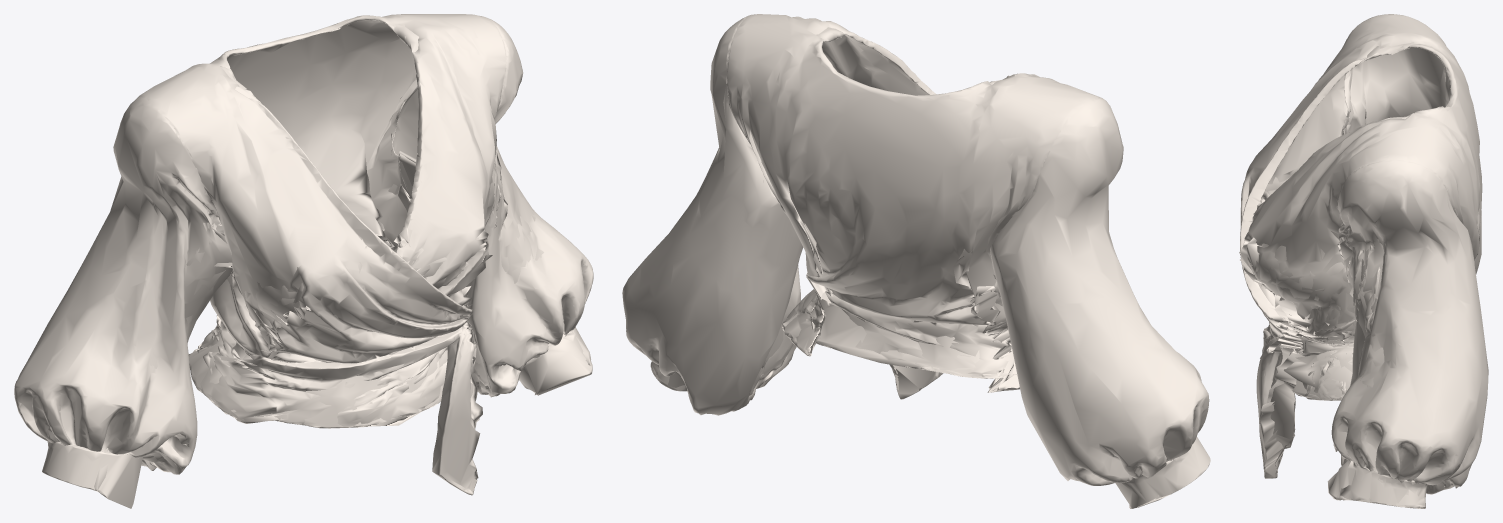
File: top_f_wrap.glb
The picture shows the model from 3 angles, left to right: view 1: azimuth 30°, elevation 25°; view 2: azimuth 150°, elevation 25°; view 3: azimuth 270°, elevation 25°; orthographic projection. The views are drawn at different scales.
Visible parts, largest first — view 1: top_f_wrap; view 2: top_f_wrap; view 3: top_f_wrap.
Part boxes in pixels (x1,y1,x2,y2): top_f_wrap: [14, 14, 593, 508]; top_f_wrap: [622, 14, 1210, 508]; top_f_wrap: [1239, 14, 1488, 508].
Size of the model in its own units: 0.8946 by 0.634 by 0.3894.
1 material, 1 textured.
